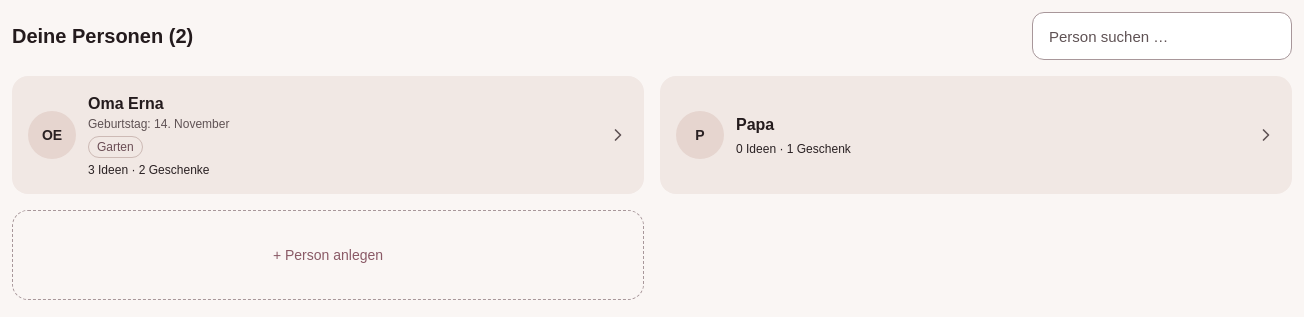
Test case: PersonSearchList › filtert die Liste nach Namen
The image size is (1304, 317).
Step 1. Type "pap" into the search field with placeholder "Person suchen …" → (1162, 36), box 1032,12 -> 1292,60
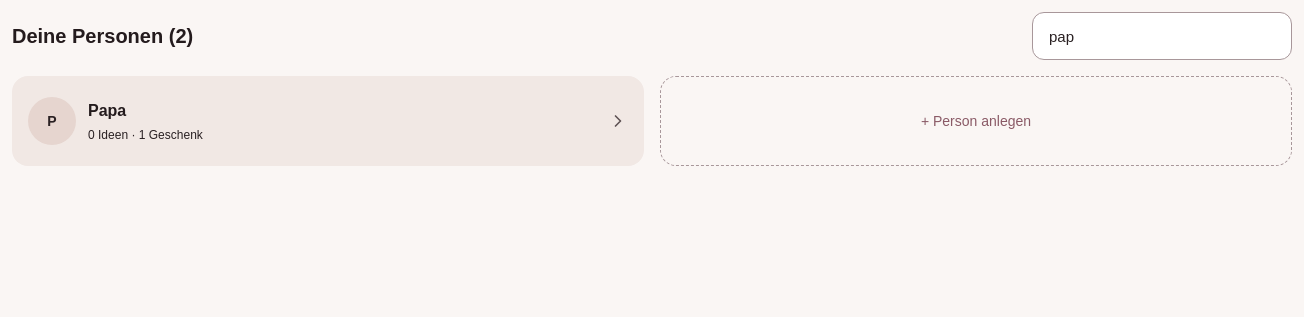
Expected: the text "Papa" is shown, 88,102 -> 126,119
Result: the link "Oma Erna" is gone
